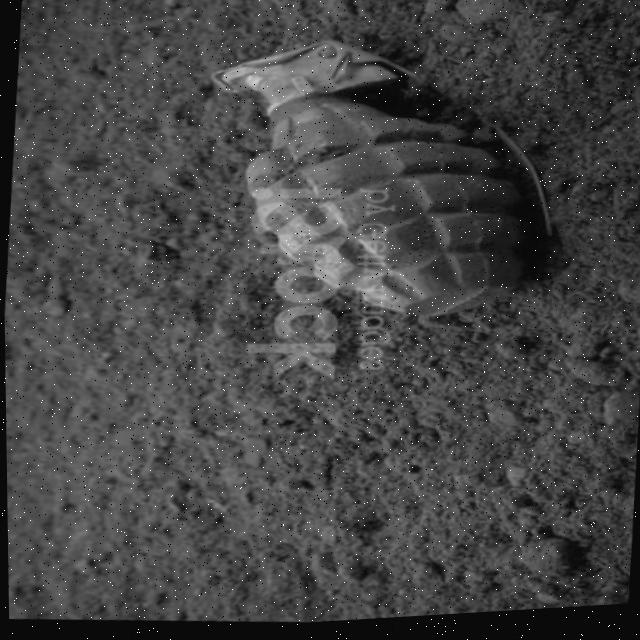grenade: (195, 19, 579, 345)
